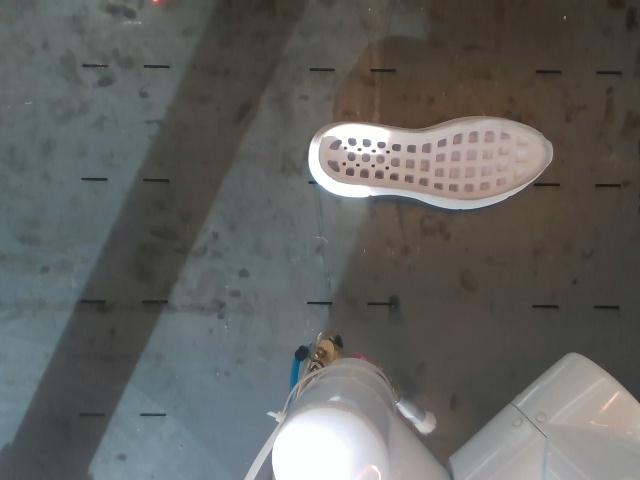shoes: (319, 121, 553, 201)
